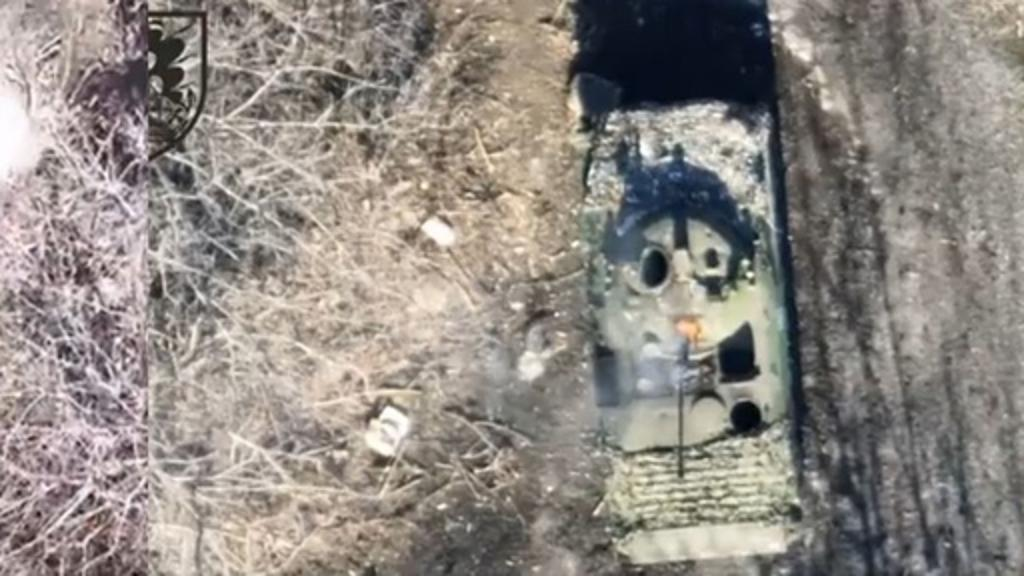APC-IFV: (548, 68, 814, 562)
